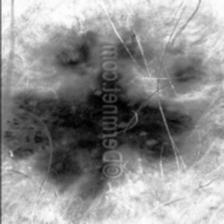Potentially Malignant Skin Tumors: (7, 26, 94, 202), (122, 86, 182, 172)
